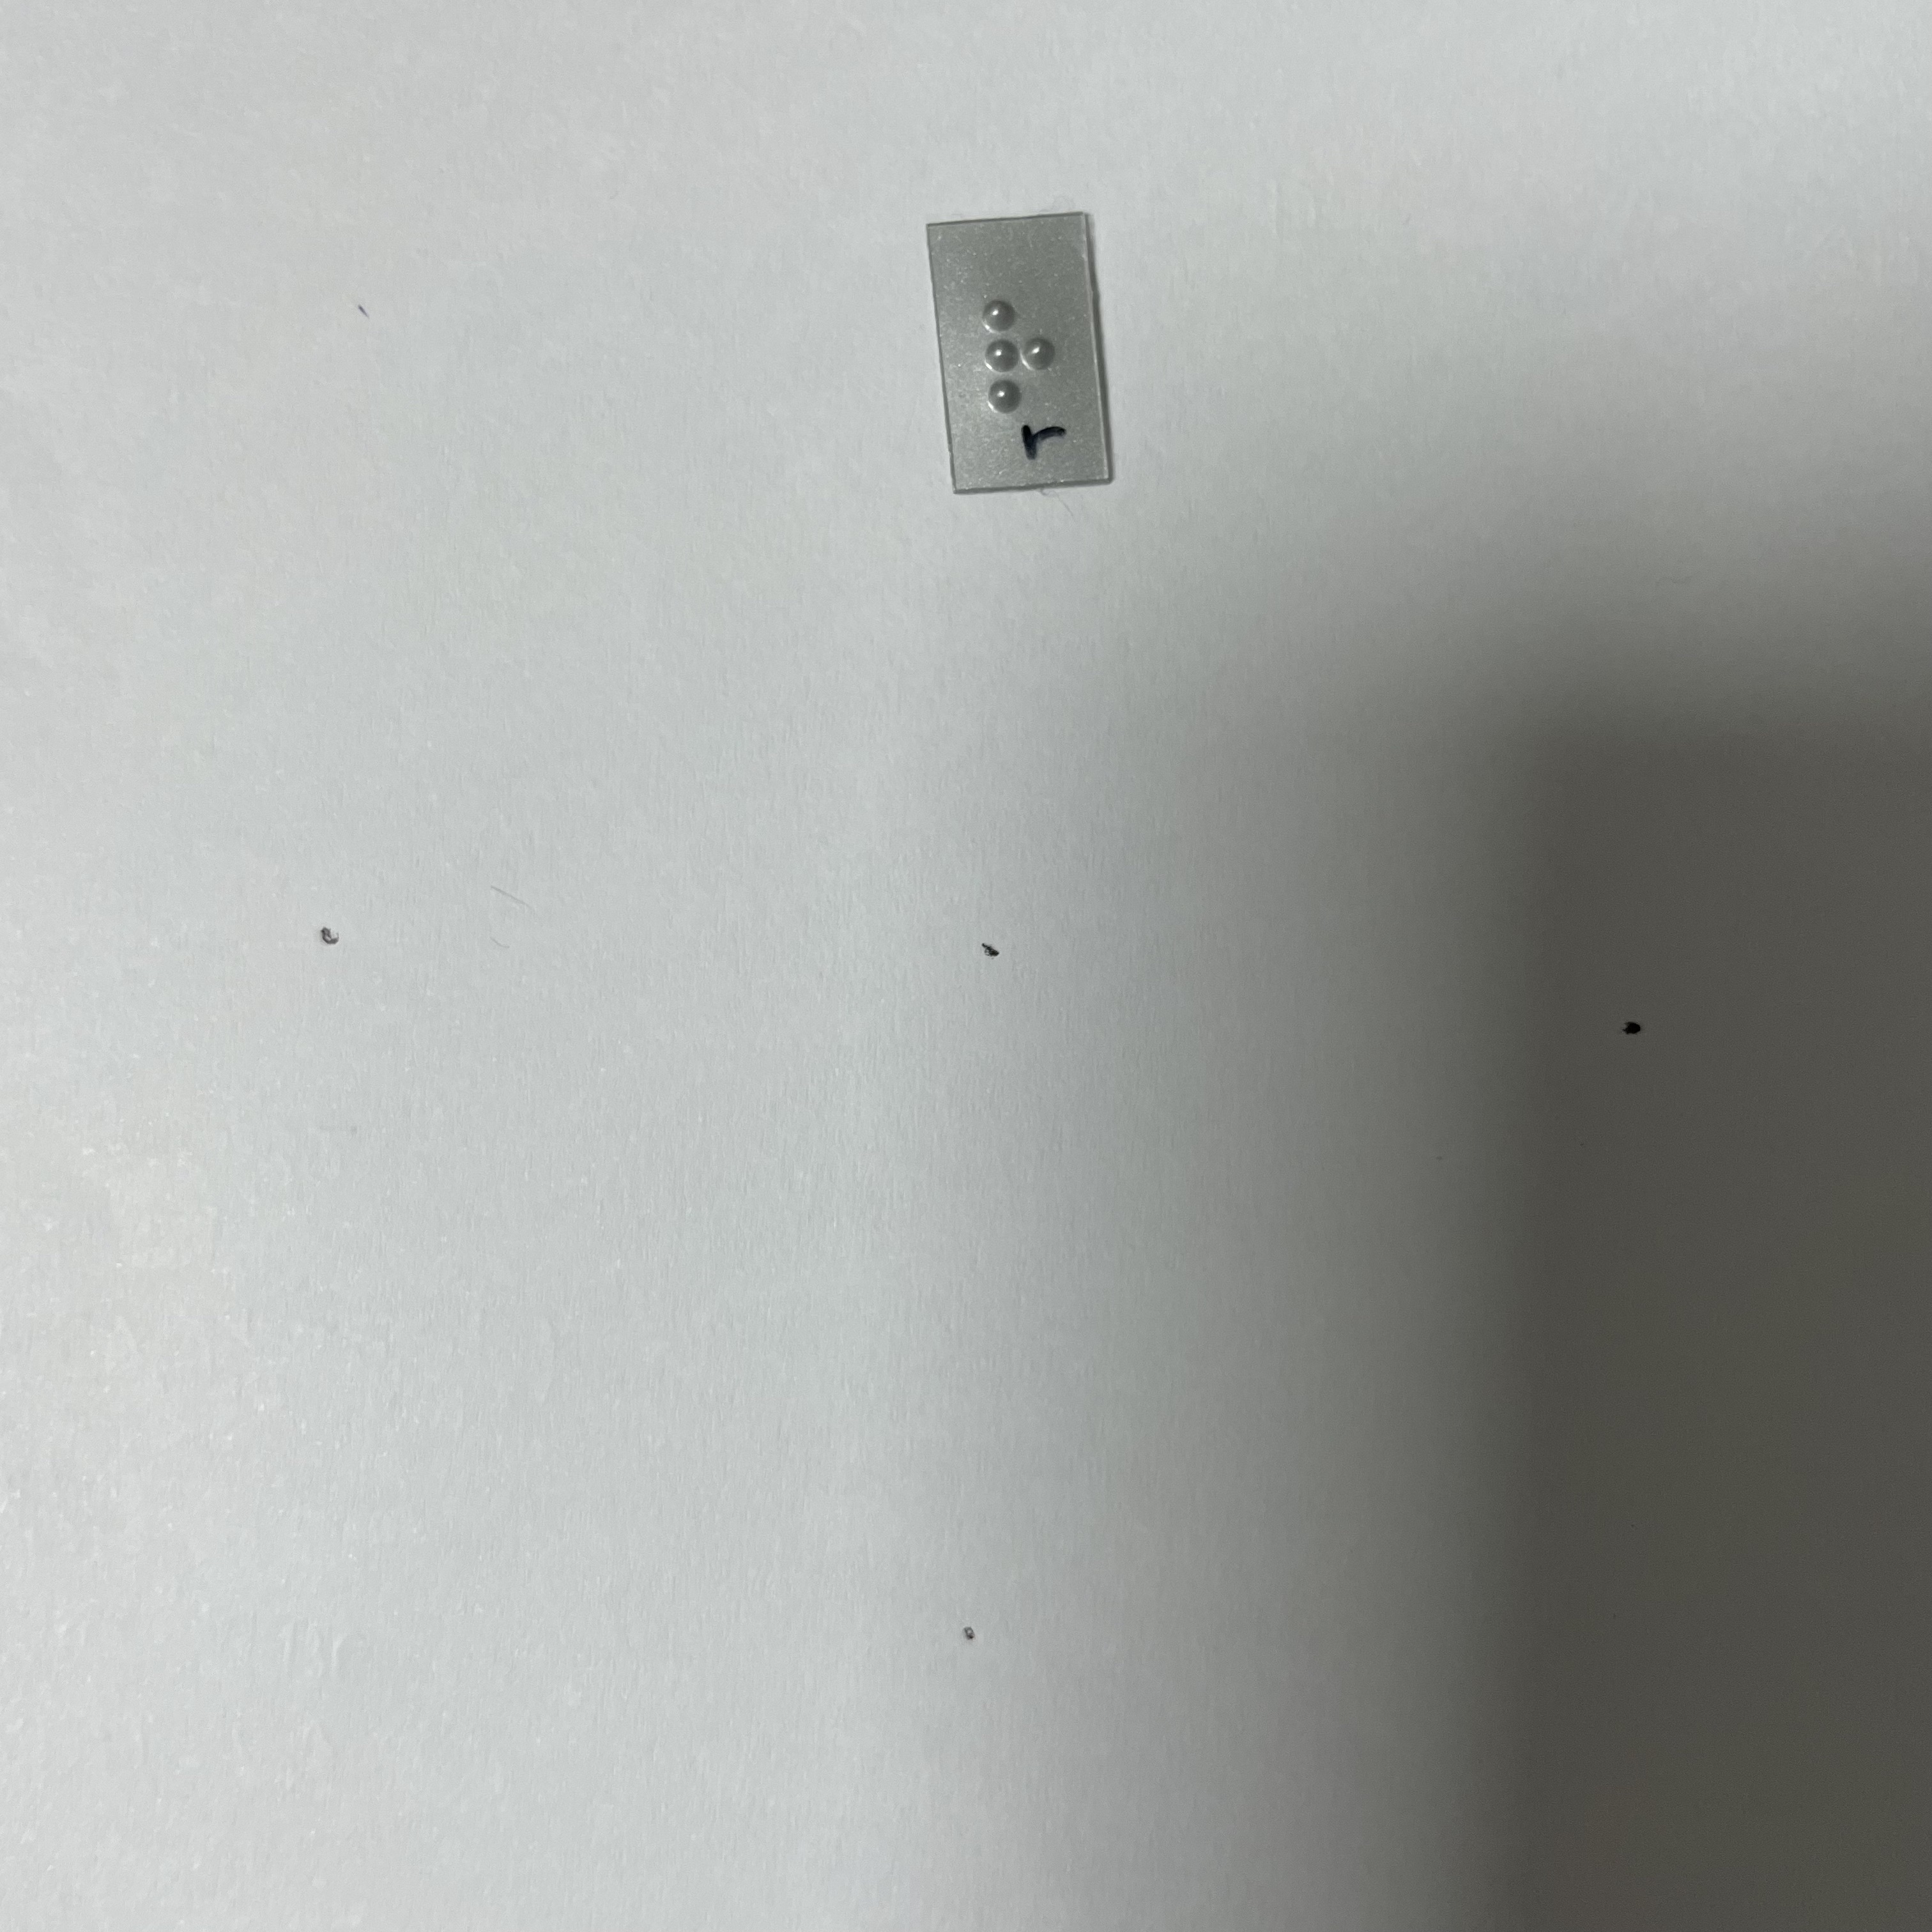r: (961, 287, 1068, 422)
